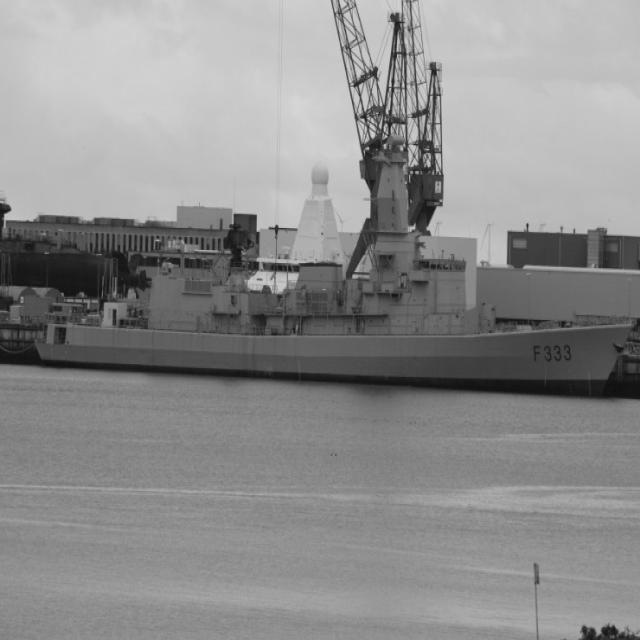Fragata: (30, 229, 640, 403)
